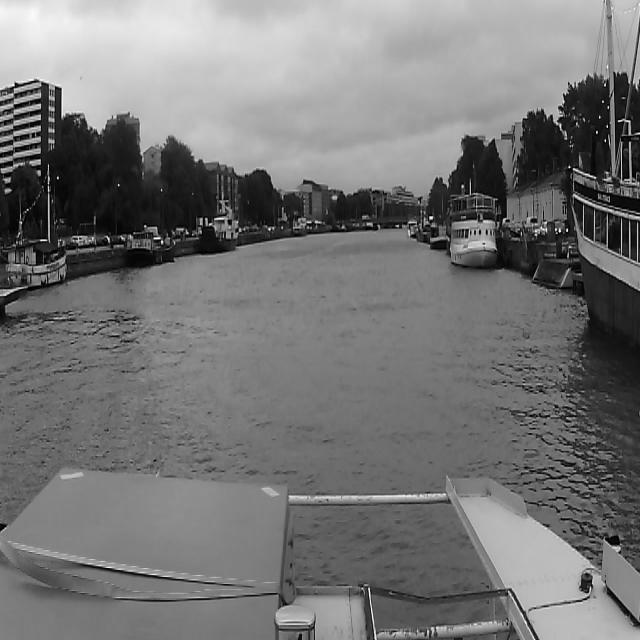ship: (570, 14, 636, 356), (5, 165, 70, 292), (449, 189, 505, 266), (196, 194, 240, 253), (124, 225, 176, 263), (431, 223, 447, 251), (417, 210, 429, 243), (292, 217, 306, 235), (408, 220, 417, 238)
